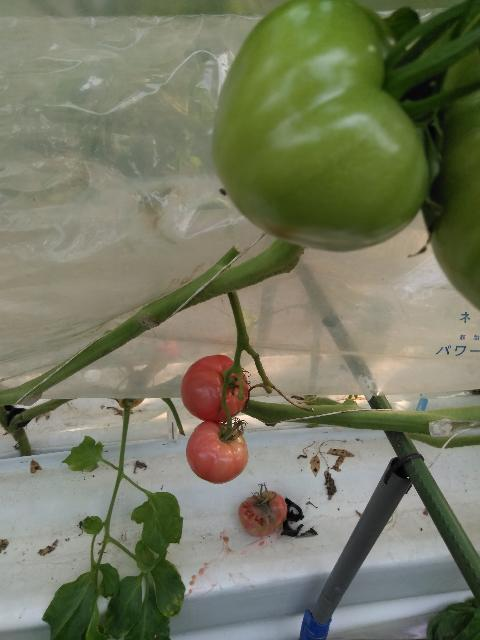b_fully_ripened: (181, 355, 249, 422)
b_green: (212, 0, 429, 252), (421, 43, 480, 312)
b_half_ripened: (186, 420, 249, 484)
